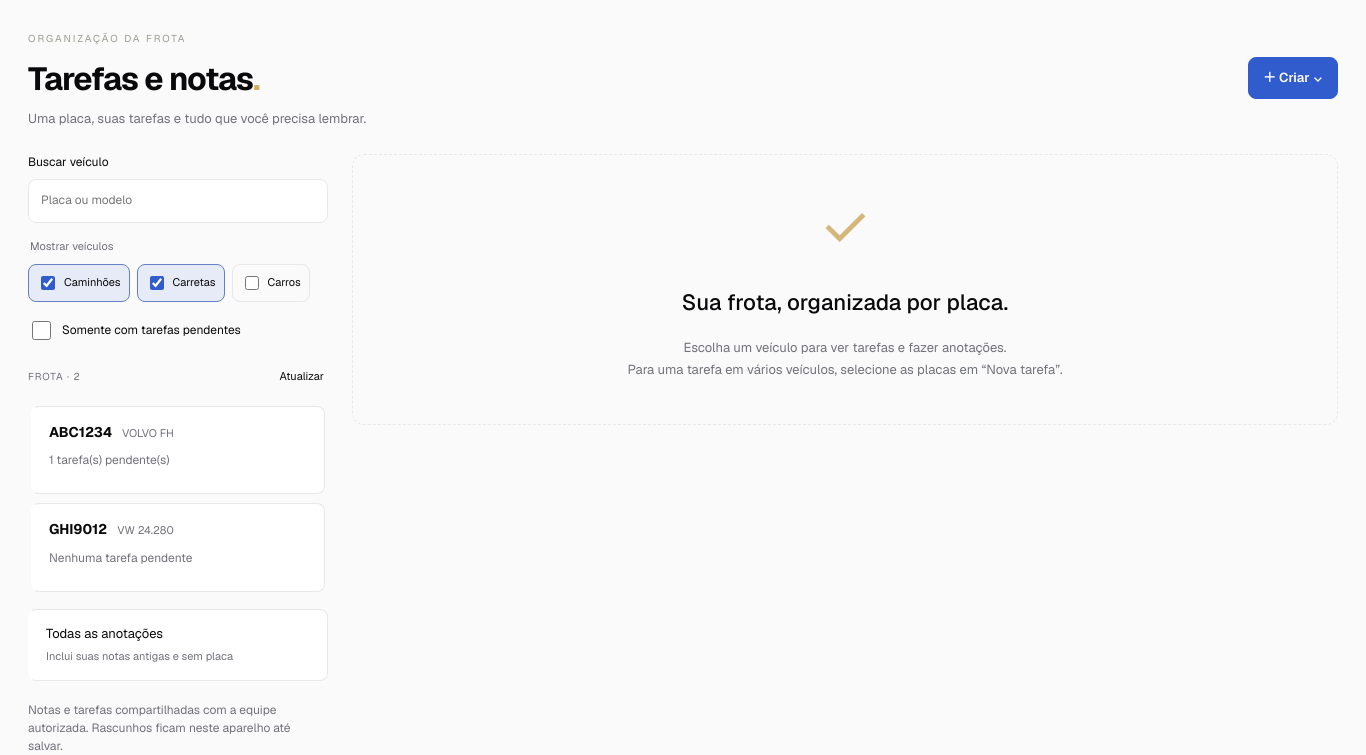
Test: tarefas antigas de implementos aparecem no cavalo
Click the button "ABC1234 VOLVO FH 1 tarefa(s) pendente(s)".
click(81, 432)  # box 31,406 -> 325,494
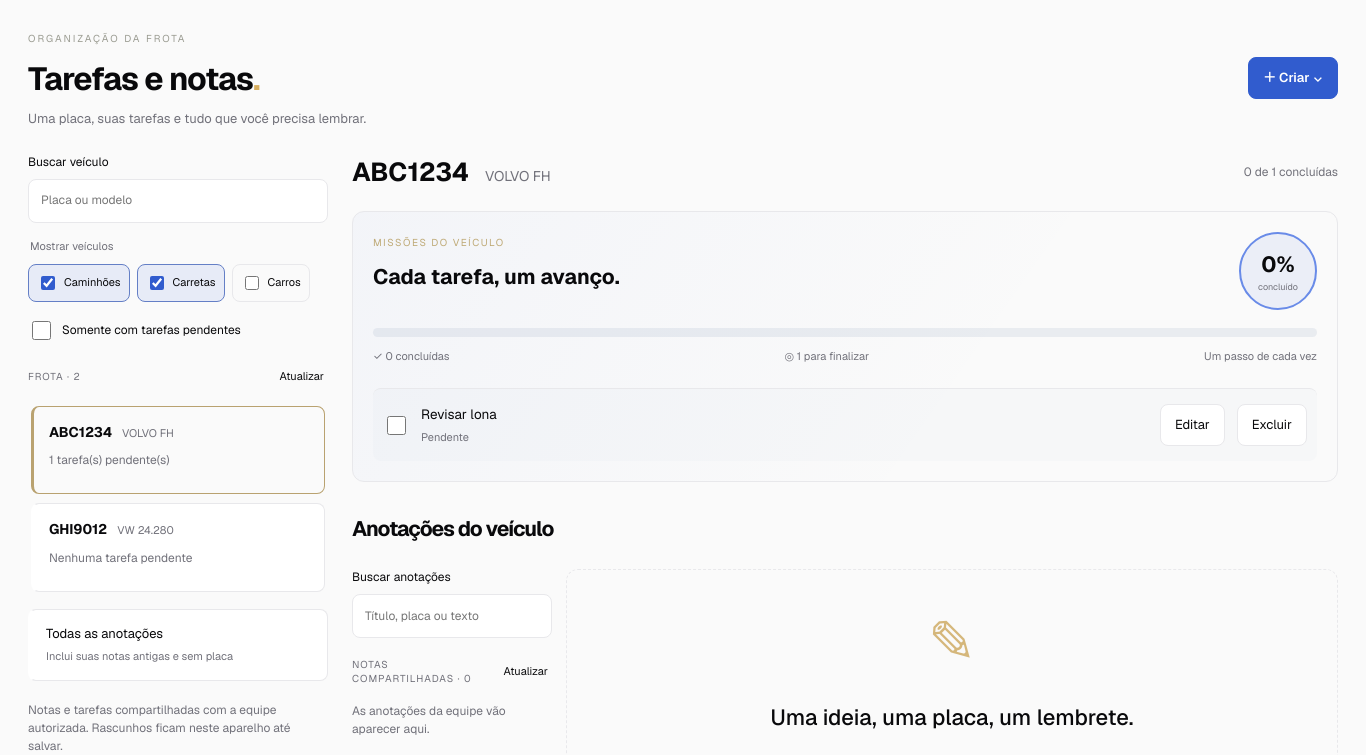
Expected: the text "Revisar lona" is shown, 421,405 -> 497,423
